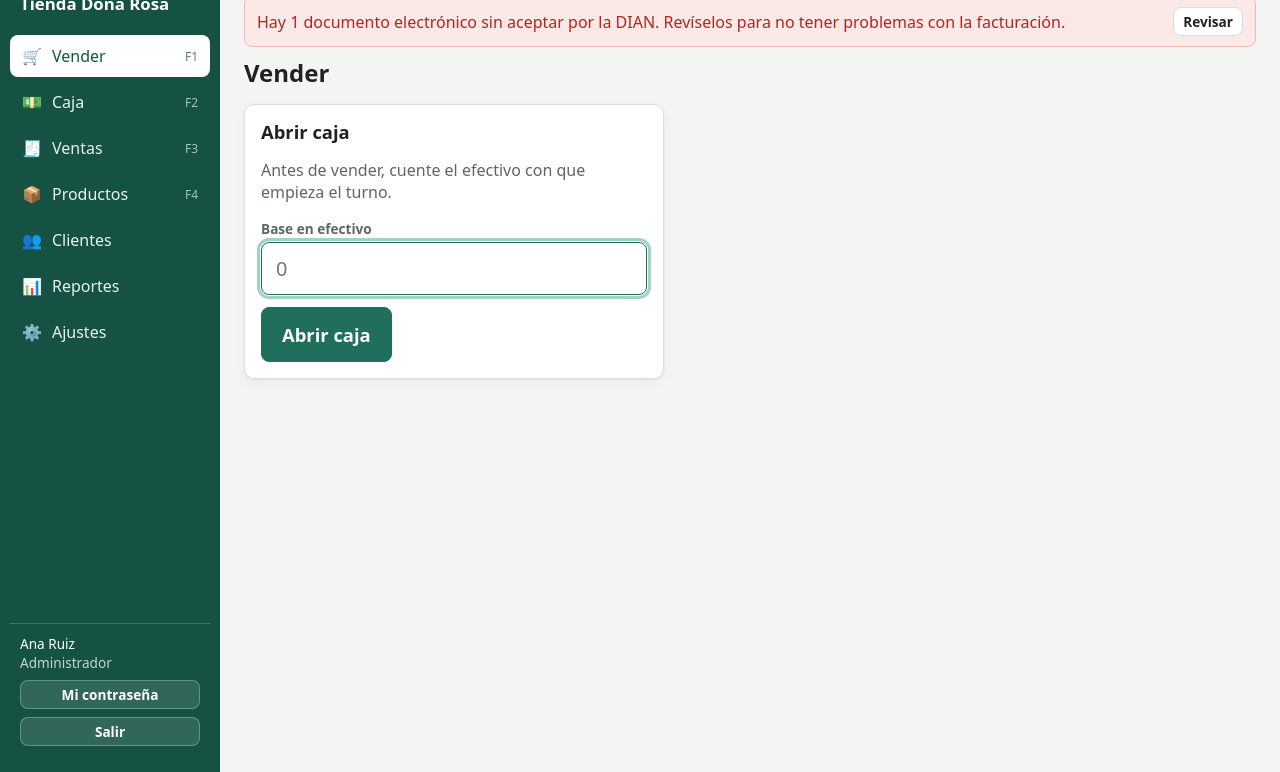
Test: facturación electrónica › avisa de un documento rechazado y lo reintenta desde Ajustes
The image size is (1280, 772).
Click the button "Revisar" at (1208, 22), box left=1173, top=7, right=1243, bottom=36
(page scrolled)
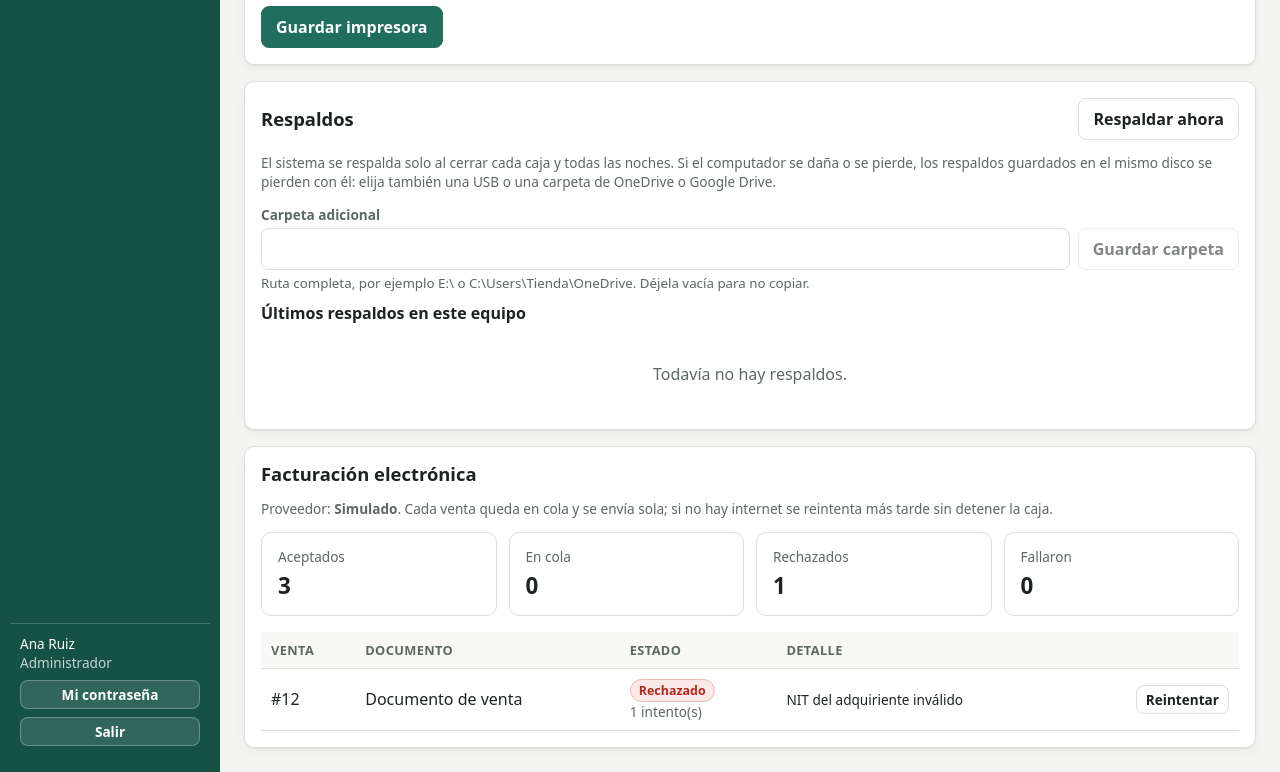
Expected: the text "NIT del adquiriente inválido" is shown, left=776, top=668, right=1070, bottom=730
Click the button "Reintentar" at (1182, 699), box left=1136, top=684, right=1229, bottom=714
(page scrolled)
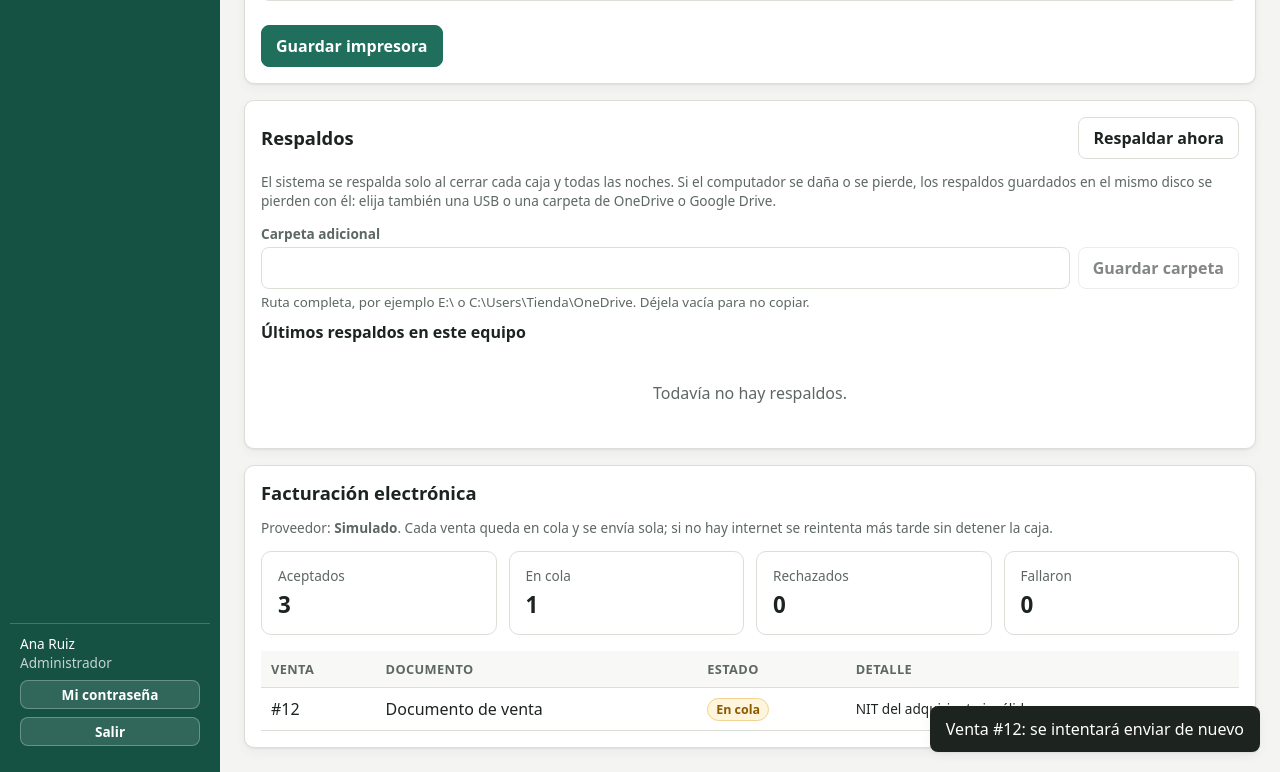
Expected: the text "Venta #12: se intentará enviar de nuevo" is shown, left=930, top=706, right=1260, bottom=752
